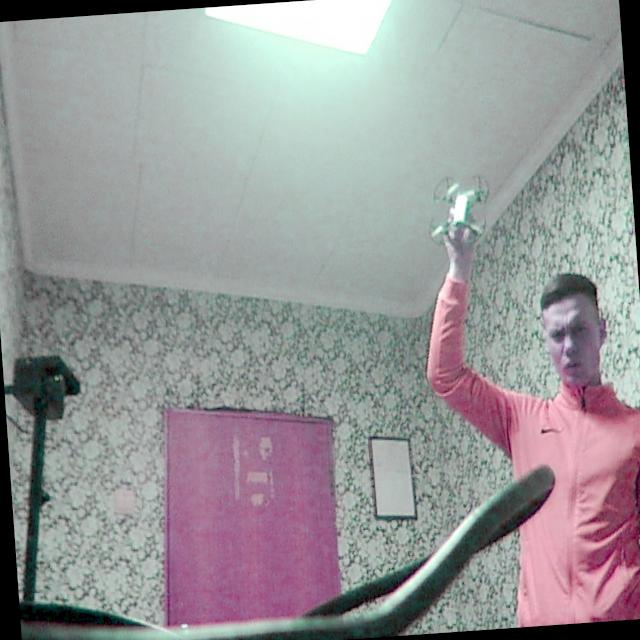drone: (419, 164, 496, 260)
